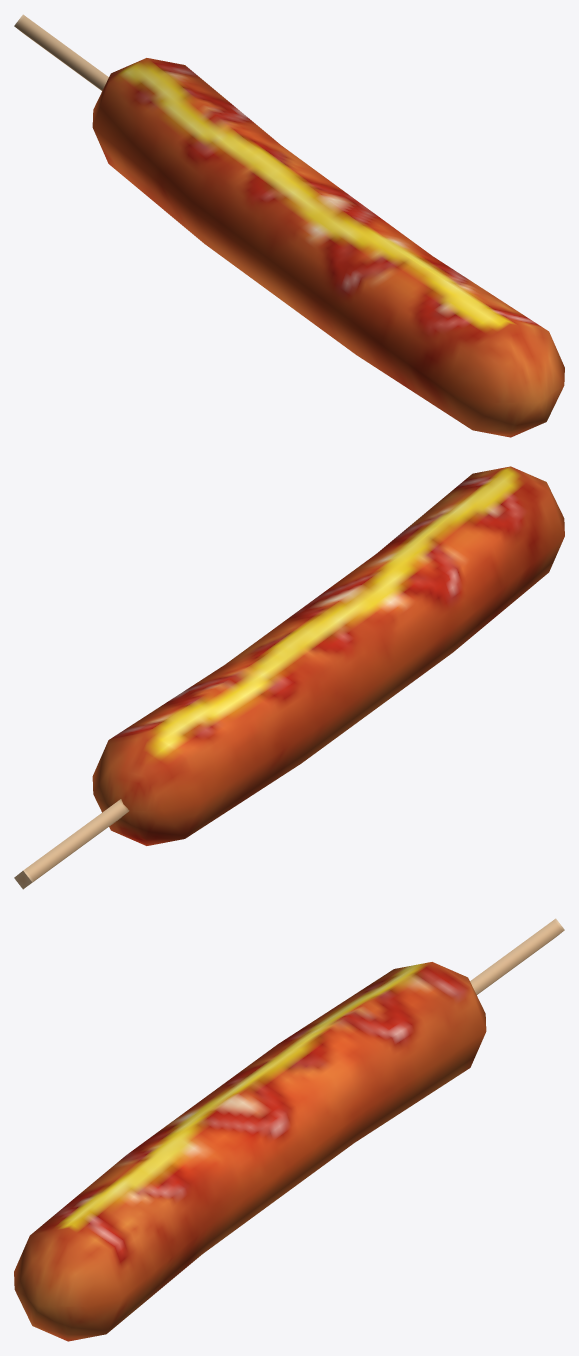
Rendered from jsf_Frankfurt_b04.fbx.
The picture shows the model from 3 angles, top to bottom: view 1: azimuth 30°, elevation 25°; view 2: azimuth 150°, elevation 25°; view 3: azimuth 330°, elevation 25°; orthographic projection.
Parts seen in each view (by area): view 1: jsf_Frankfurt_b04; view 2: jsf_Frankfurt_b04; view 3: jsf_Frankfurt_b04.
Part boxes in pixels (<box>): jsf_Frankfurt_b04: <box>14,14,564,437</box>; jsf_Frankfurt_b04: <box>14,466,564,889</box>; jsf_Frankfurt_b04: <box>14,918,564,1341</box>.
Bounding box in the file's own units: 3.73 × 3.42 × 28.25.
